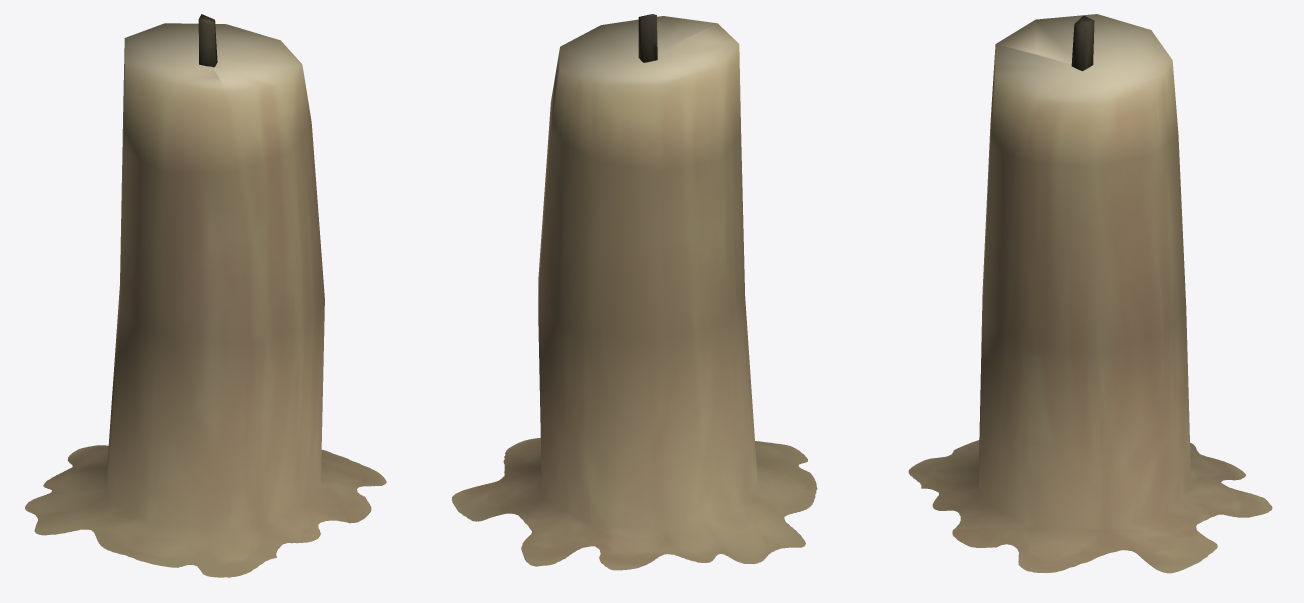
File: candle_03.fbx
The picture shows the model from 3 angles, left to right: view 1: azimuth 30°, elevation 25°; view 2: azimuth 150°, elevation 25°; view 3: azimuth 270°, elevation 25°; orthographic projection.
Parts seen in each view (by area): view 1: candle_03; view 2: candle_03; view 3: candle_03.
Boxes of the visible parts, x1,y1,x2,y2 form: candle_03: (25,14,386,577); candle_03: (452,14,817,570); candle_03: (908,14,1272,573).
Bounding box in the file's own units: 40.82 × 52.98 × 40.2.
